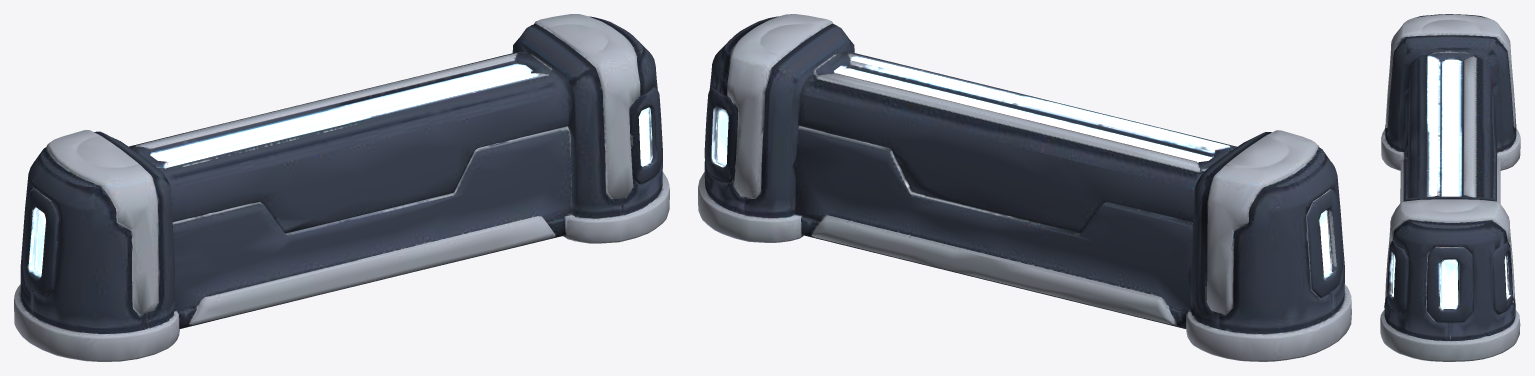
The model's file is wall-1.glb.
3 renders of one model, left to right at view 1: azimuth 30°, elevation 25°; view 2: azimuth 150°, elevation 25°; view 3: azimuth 270°, elevation 25°, orthographic. The views are drawn at different scales.
Visible parts, largest first — view 1: wall-1-body; view 2: wall-1-body; view 3: wall-1-body.
Boxes of the visible parts, <box> form: wall-1-body: <box>14,14,669,361</box>; wall-1-body: <box>698,14,1351,361</box>; wall-1-body: <box>1380,14,1520,361</box>.
Size of the model in its own units: 1 by 0.264 by 0.2537.
Materials: 1 (1 with a texture image).
